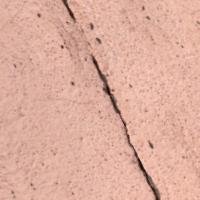crack: (64, 0, 166, 198)
